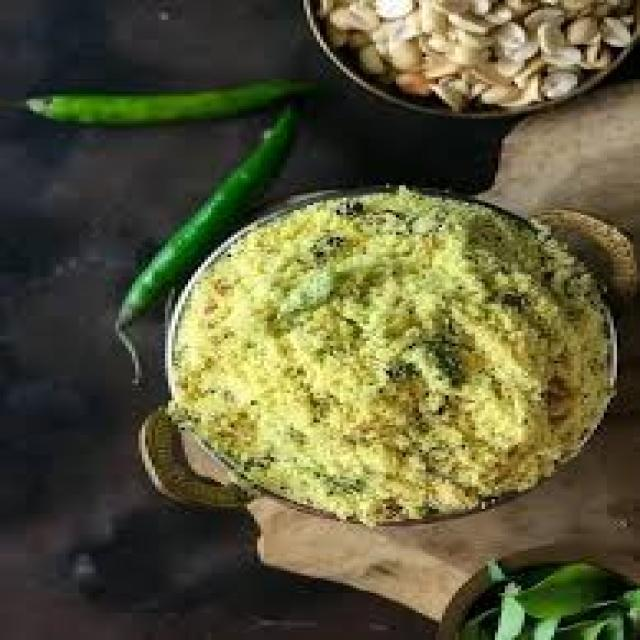POHA: (168, 188, 604, 516)
